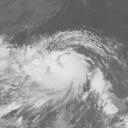cyclone: (5, 29, 122, 119)
